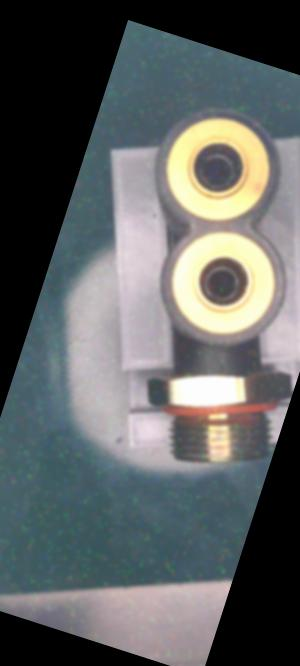craze: (214, 360, 228, 376)
